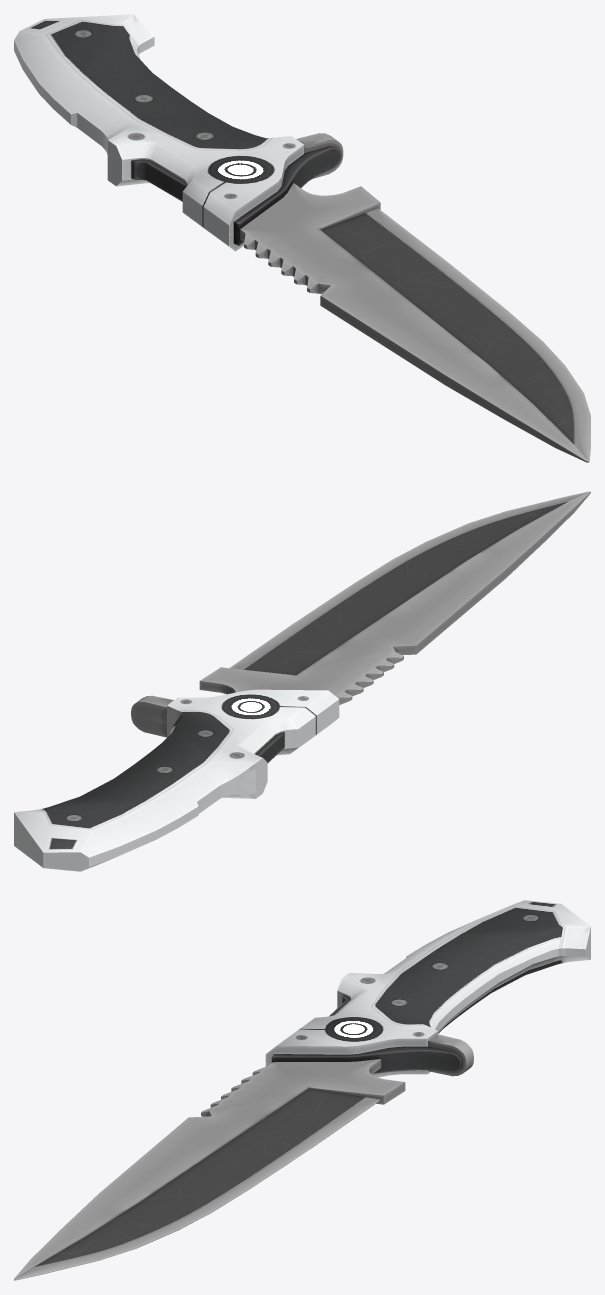
File: MeleeKnife01_1.FBX
3 renders of one model, top to bottom at view 1: azimuth 30°, elevation 25°; view 2: azimuth 150°, elevation 25°; view 3: azimuth 330°, elevation 25°, orthographic. The views are drawn at different scales.
Parts seen in each view (by area): view 1: MeleeKnife01_1; view 2: MeleeKnife01_1; view 3: MeleeKnife01_1.
Part boxes in pixels (<box>): MeleeKnife01_1: <box>14,14,590,462</box>; MeleeKnife01_1: <box>14,491,590,871</box>; MeleeKnife01_1: <box>14,900,590,1280</box>.
Size of what is drawn, in the model's own units: 0.0802 by 0.0168 by 0.4387.
